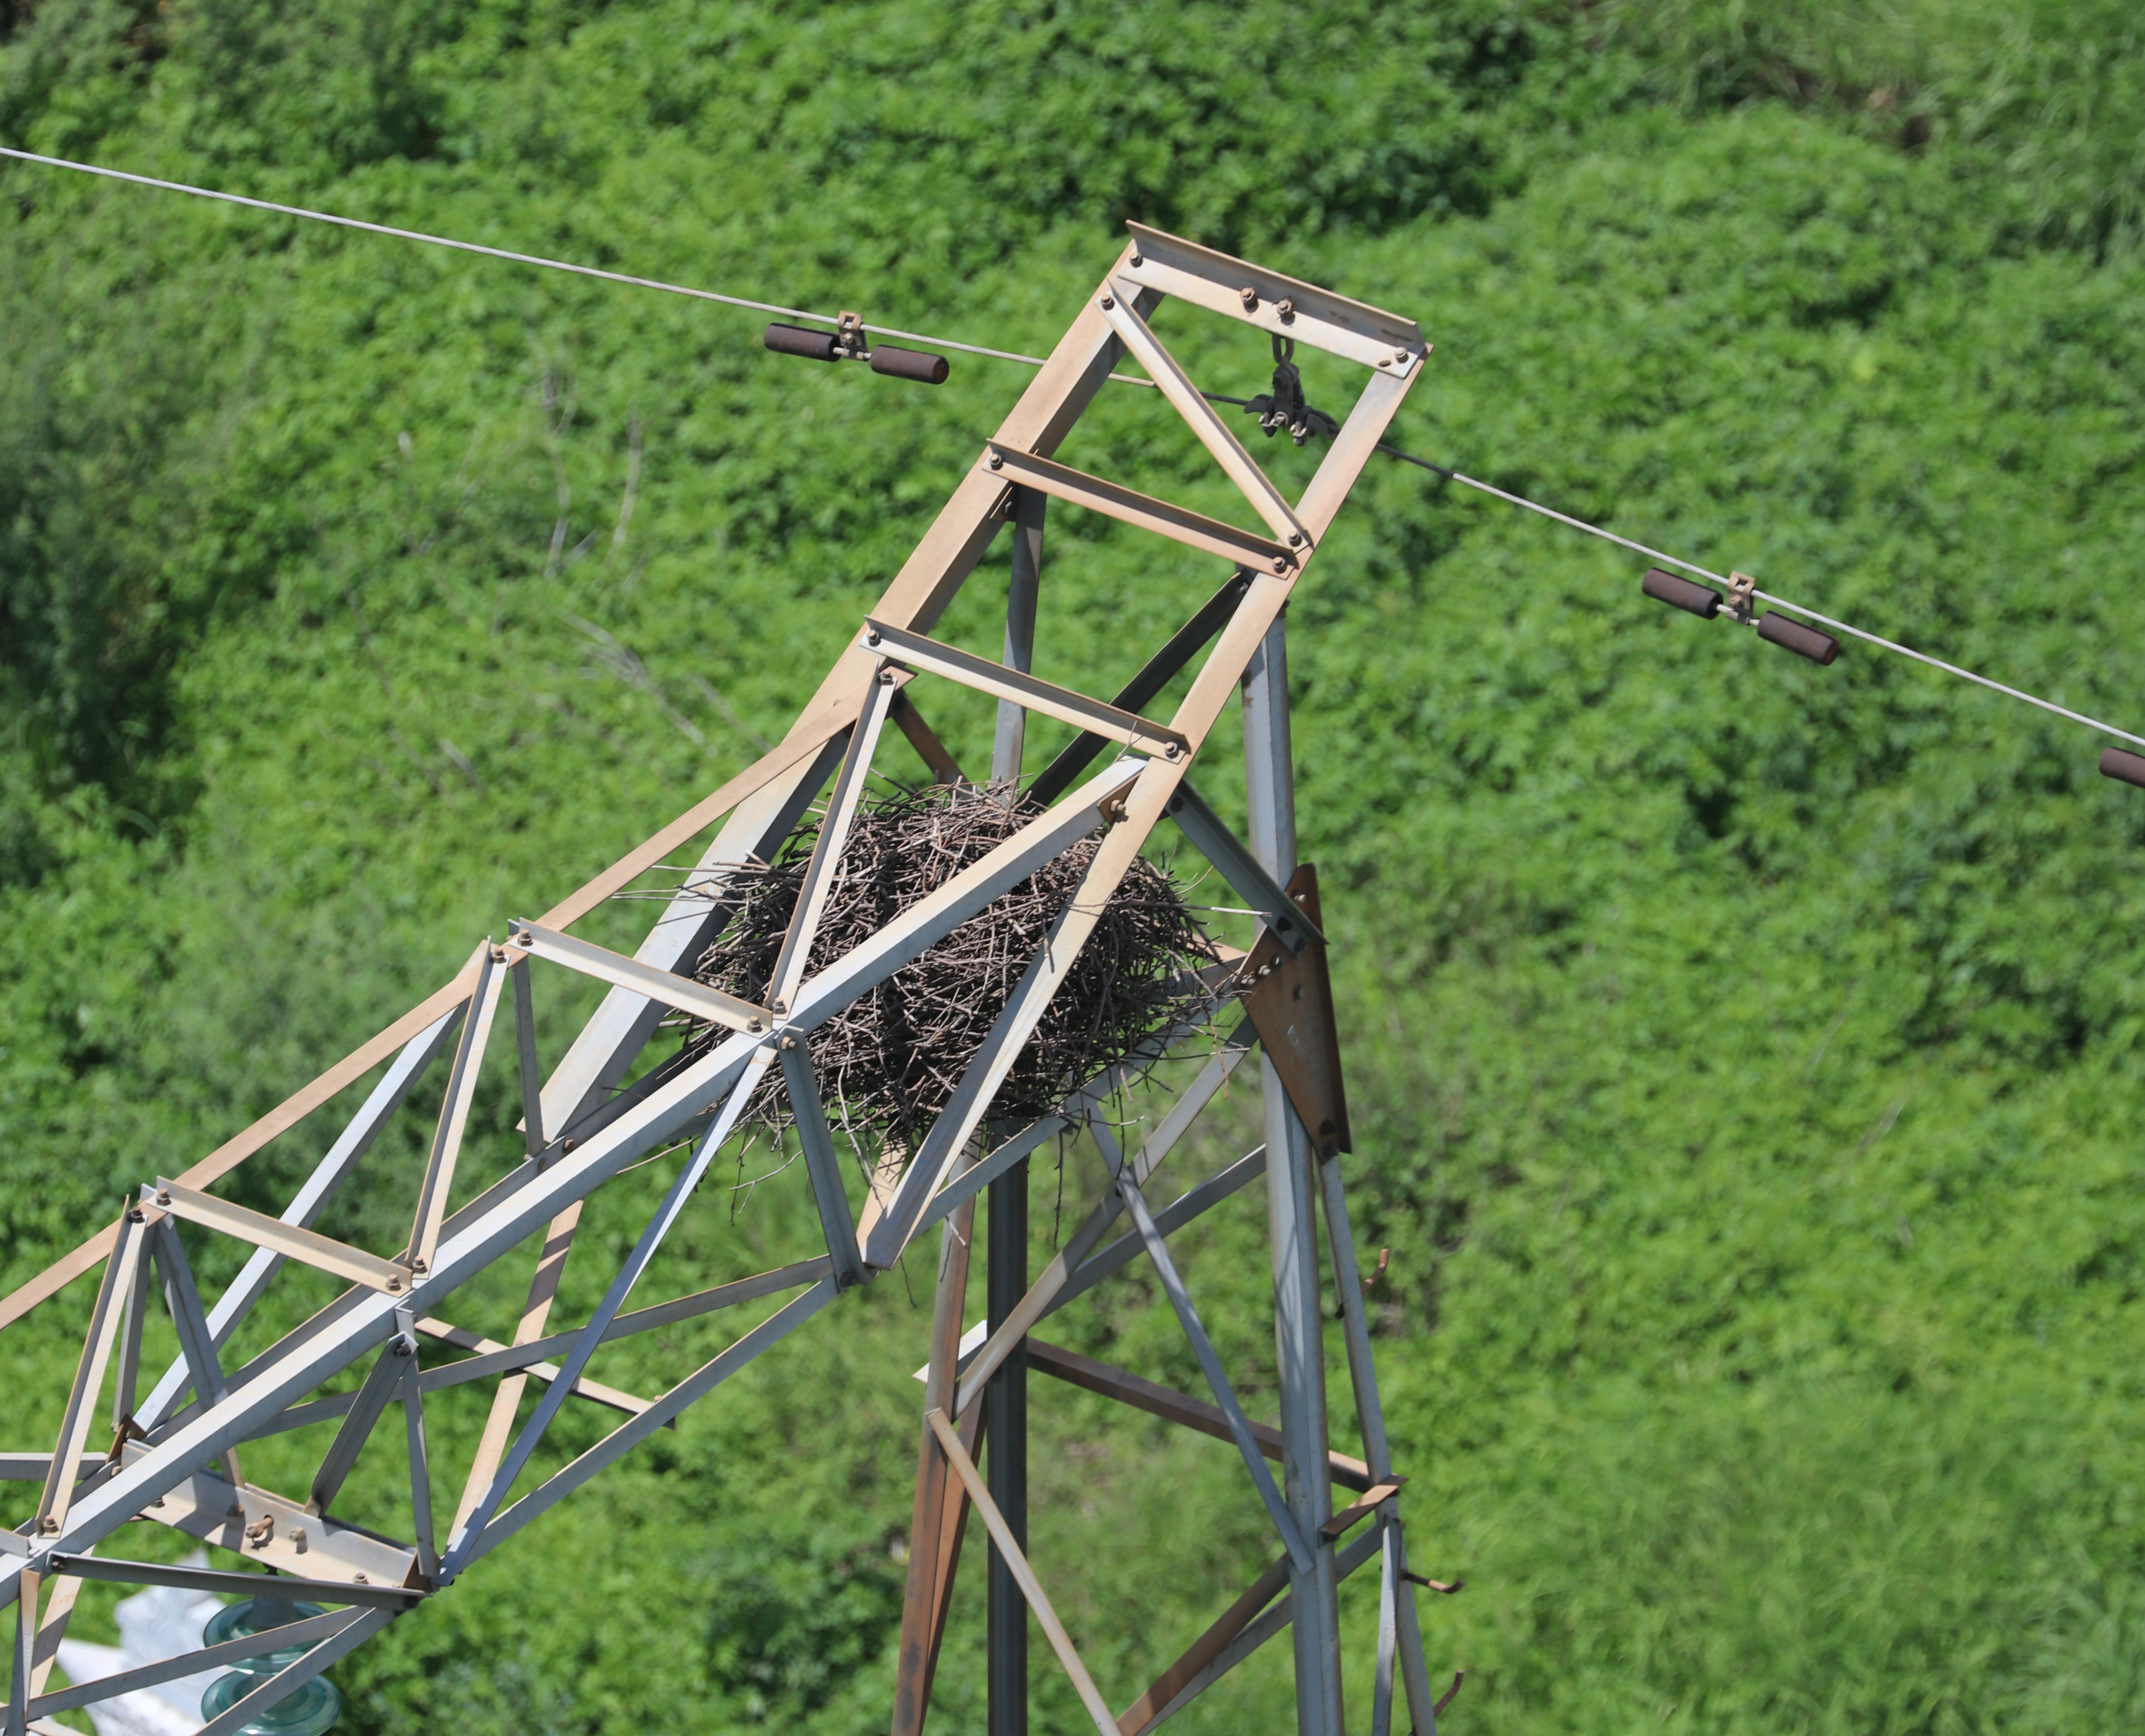niaowo: (682, 749, 1249, 1123)
